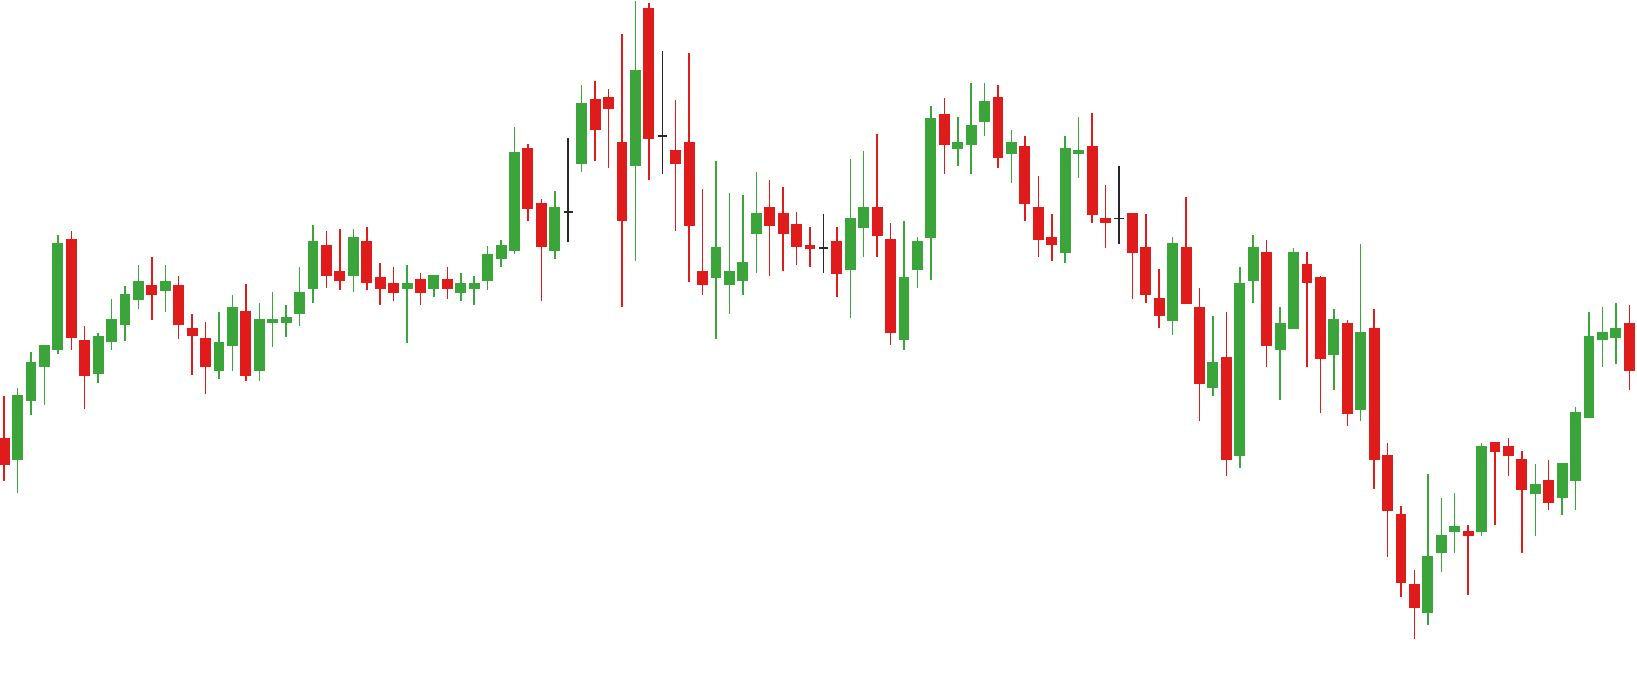sell: (872, 92, 951, 250)
